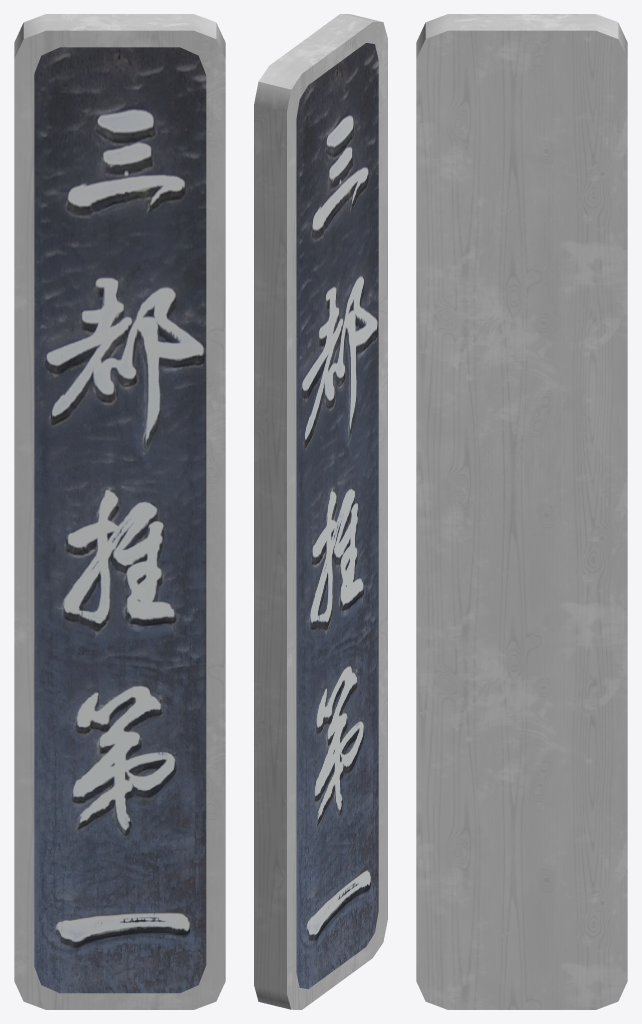
File: SM_R_Yuyotaek9.fbx
3 renders of one model, left to right at view 1: azimuth 90°, elevation 25°; view 2: azimuth 150°, elevation 25°; view 3: azimuth 270°, elevation 25°, orthographic. The views are drawn at different scales.
Visible parts, largest first — view 1: SM_R_Yuyotaek9; view 2: SM_R_Yuyotaek9; view 3: SM_R_Yuyotaek9.
Part boxes in pixels (<box>): SM_R_Yuyotaek9: <box>14,14,225,1009</box>; SM_R_Yuyotaek9: <box>254,14,387,1009</box>; SM_R_Yuyotaek9: <box>416,14,627,1009</box>.
Size of the model in its own units: 3.97 by 21.22 by 108.
1 material, 1 textured.
